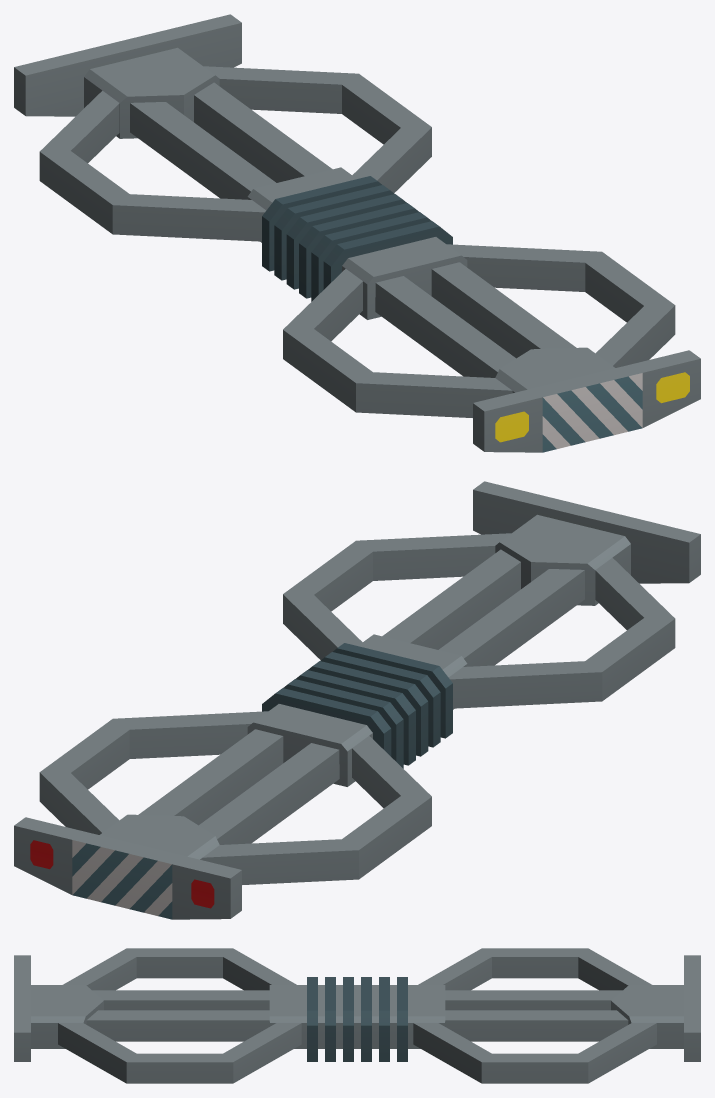
Rendered from Cargo_drone_002.fbx.
3 renders of one model, top to bottom at view 1: azimuth 30°, elevation 25°; view 2: azimuth 150°, elevation 25°; view 3: azimuth 270°, elevation 25°, orthographic. The views are drawn at different scales.
Parts seen in each view (by area): view 1: Cargo_drone_002; view 2: Cargo_drone_002; view 3: Cargo_drone_002.
Part boxes in pixels (box(x1,y1,x2,y2)): Cargo_drone_002: box(14, 14, 700, 452); Cargo_drone_002: box(14, 481, 700, 919); Cargo_drone_002: box(14, 948, 700, 1083).
Size of the model in its own units: 113 by 288 by 21.55.
